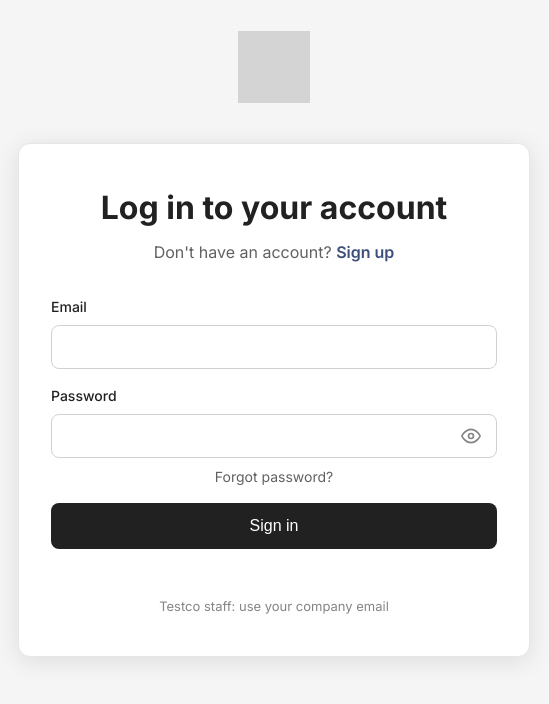
Login Page › shows validation error for empty email
Click the button "Sign in": (274, 526) [51,503,497,549]
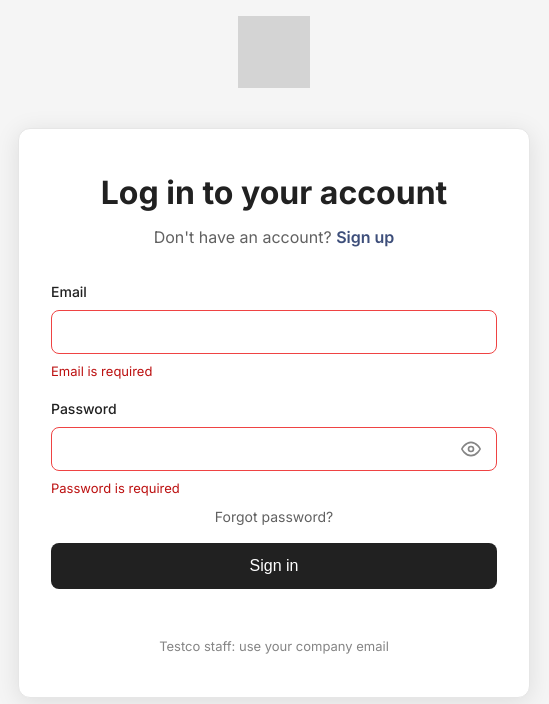
Expected: the text "Email is required" is shown, [51,363,152,379]
